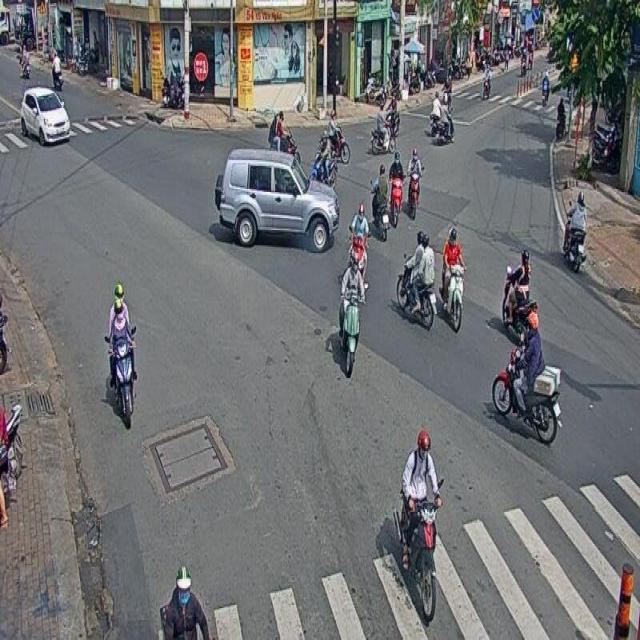car: (214, 148, 340, 251), (20, 87, 70, 145)
motorcycle: (393, 430, 444, 623), (490, 311, 562, 443), (105, 280, 136, 434), (395, 230, 437, 331), (335, 253, 368, 373), (500, 250, 538, 324), (440, 228, 465, 334), (562, 189, 588, 273), (370, 162, 390, 240), (349, 204, 370, 274), (370, 104, 396, 154), (389, 151, 405, 228), (328, 110, 350, 166), (407, 146, 421, 220)
